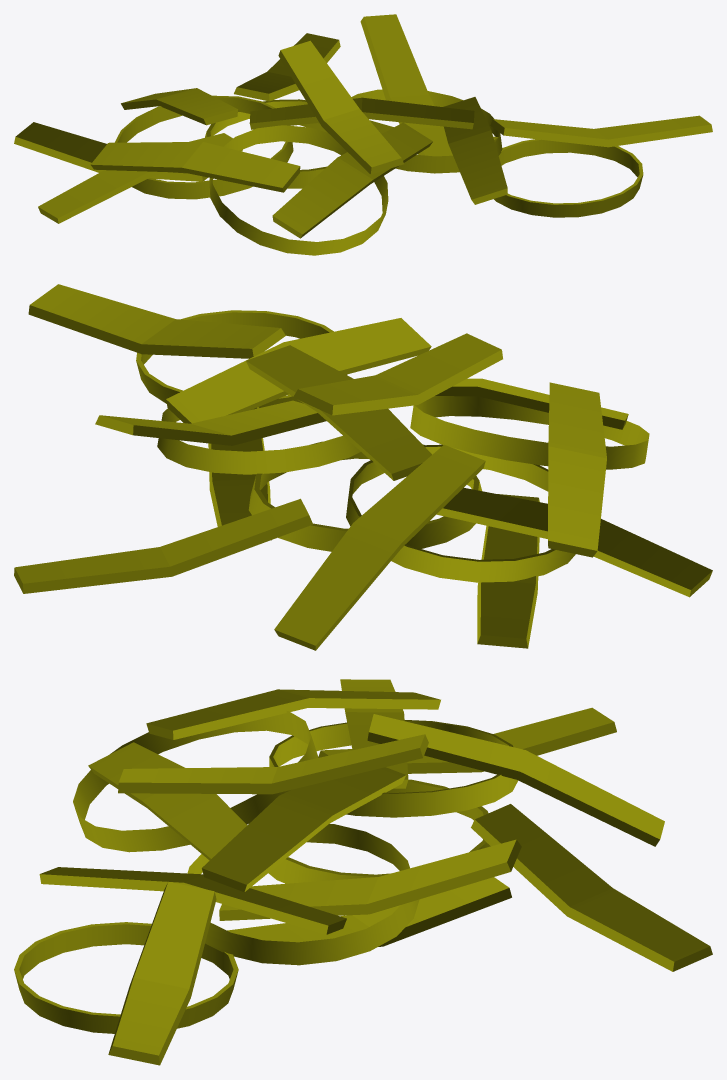
File: burrel2.fbx
The picture shows the model from 3 angles, top to bottom: view 1: azimuth 30°, elevation 25°; view 2: azimuth 150°, elevation 25°; view 3: azimuth 270°, elevation 25°; orthographic projection. The views are drawn at different scales.
Visible parts, largest first — view 1: WoodenBarrel_Broken_v2_LOD0; view 2: WoodenBarrel_Broken_v2_LOD0; view 3: WoodenBarrel_Broken_v2_LOD0.
Boxes of the visible parts, x1,y1,x2,y2 form: WoodenBarrel_Broken_v2_LOD0: (14, 14, 712, 255); WoodenBarrel_Broken_v2_LOD0: (14, 284, 712, 650); WoodenBarrel_Broken_v2_LOD0: (14, 679, 712, 1065).
Size of the model in its own units: 35.77 by 6.4 by 26.99.
